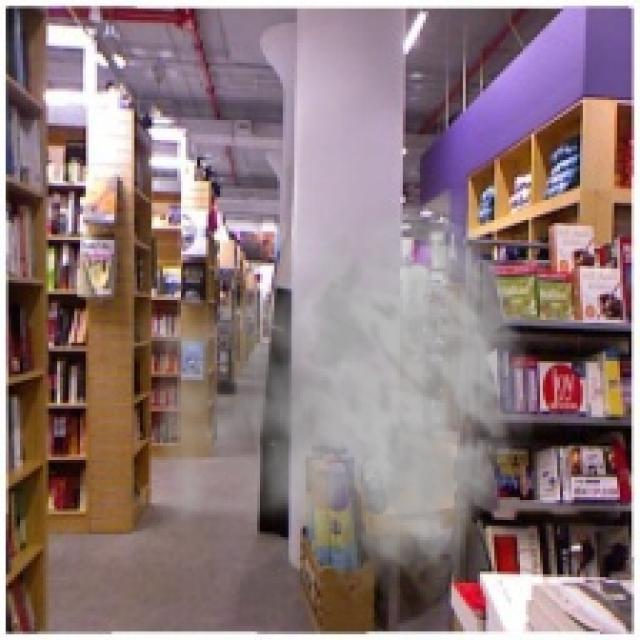smoke: (117, 188, 537, 612)
